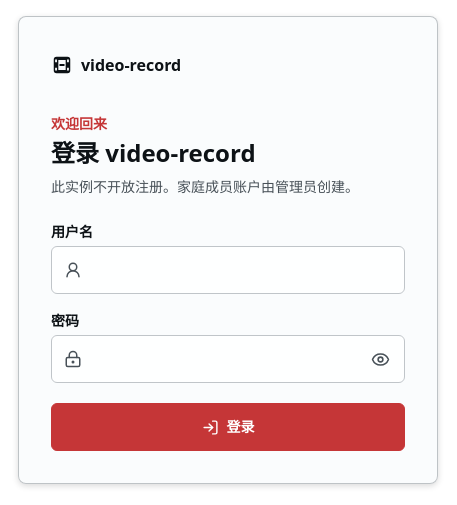
Test: AuthGate › keeps the original pointer selection across rapid toggles before the restoration frame
The image size is (457, 505).
In the password field labelled "密码": (221, 359) [92,336,350,382], type "correct horse battery staple"
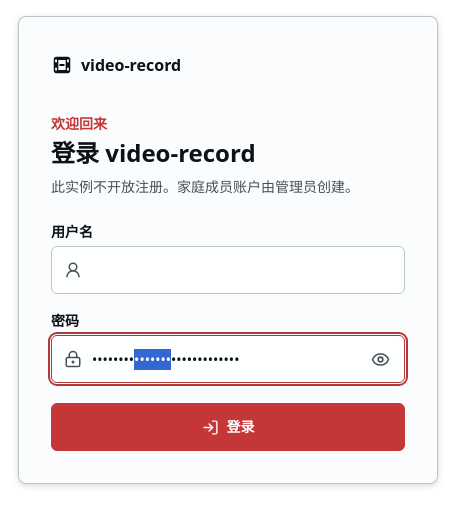
Click the button named "显示密码": (380, 359) [358,337,402,381]
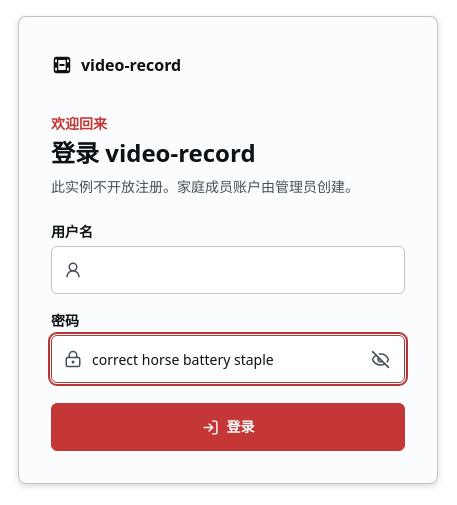
Click the button named "隐藏密码": (380, 359) [358,337,402,381]
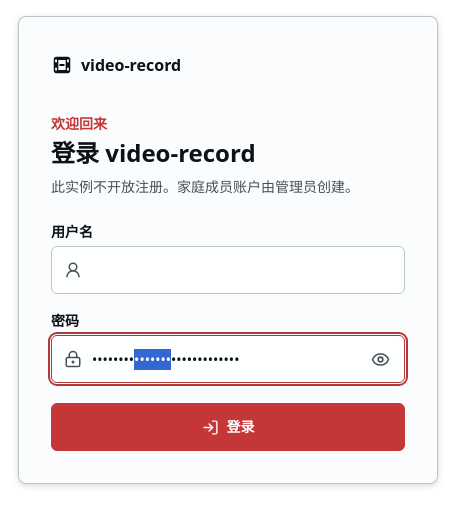
expect the password field labelled "密码" hides its text: met, box [92,336,350,382]
Click the button named "显示密码": (380, 359) [358,337,402,381]
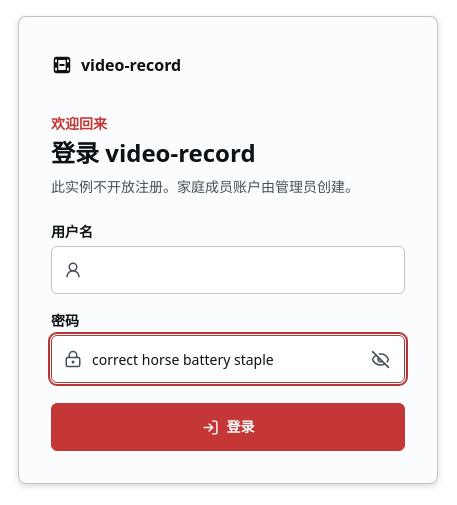
Click the button named "隐藏密码": (380, 359) [358,337,402,381]
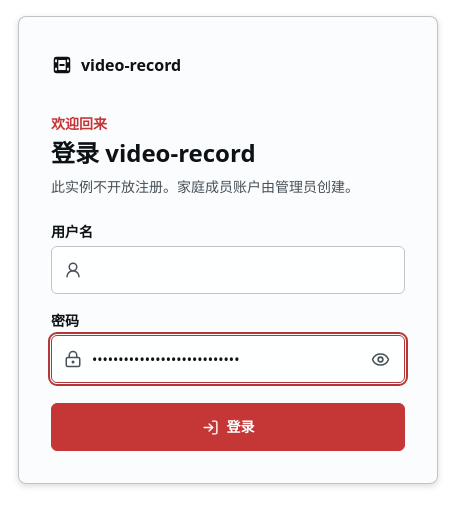
Click the button named "显示密码": (380, 359) [358,337,402,381]
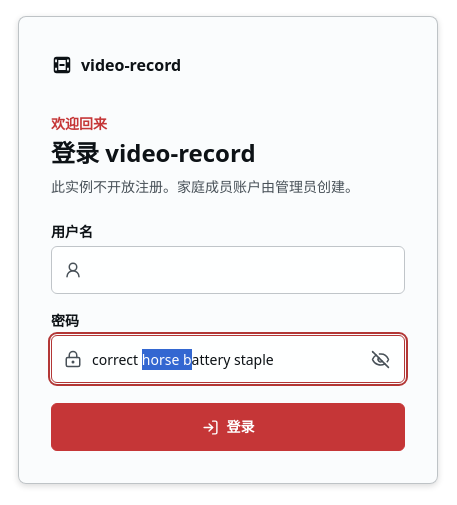
expect the field labelled "密码" shows its text: met, box [92,336,350,382]
